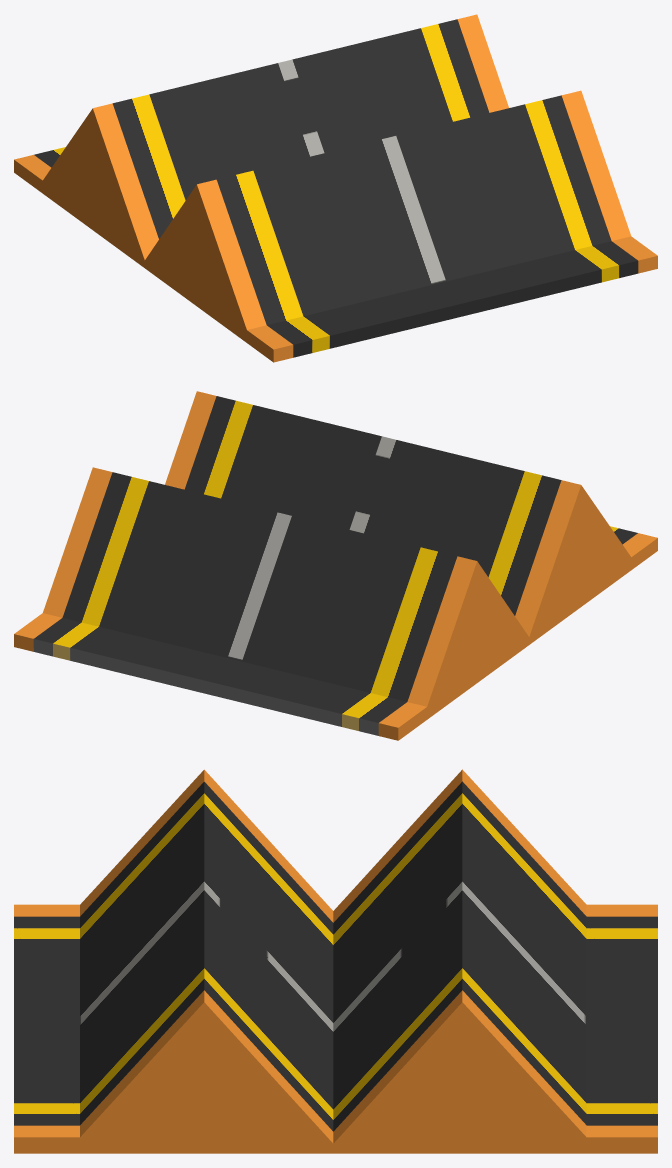
Rendered from pista01.fbx.
3 views of the same model, one above another, from view 1: azimuth 30°, elevation 25°; view 2: azimuth 150°, elevation 25°; view 3: azimuth 270°, elevation 25° (orthographic). The views are drawn at different scales.
Visible parts, largest first — view 1: pista01; view 2: pista01; view 3: pista01.
Part boxes in pixels (left/top/right/bottom): pista01: left=14, top=14, right=657, bottom=362; pista01: left=14, top=391, right=657, bottom=740; pista01: left=14, top=769, right=657, bottom=1153.
Size of the model in its own units: 2539 by 770 by 2969.
Materials: 1 (1 with a texture image).
